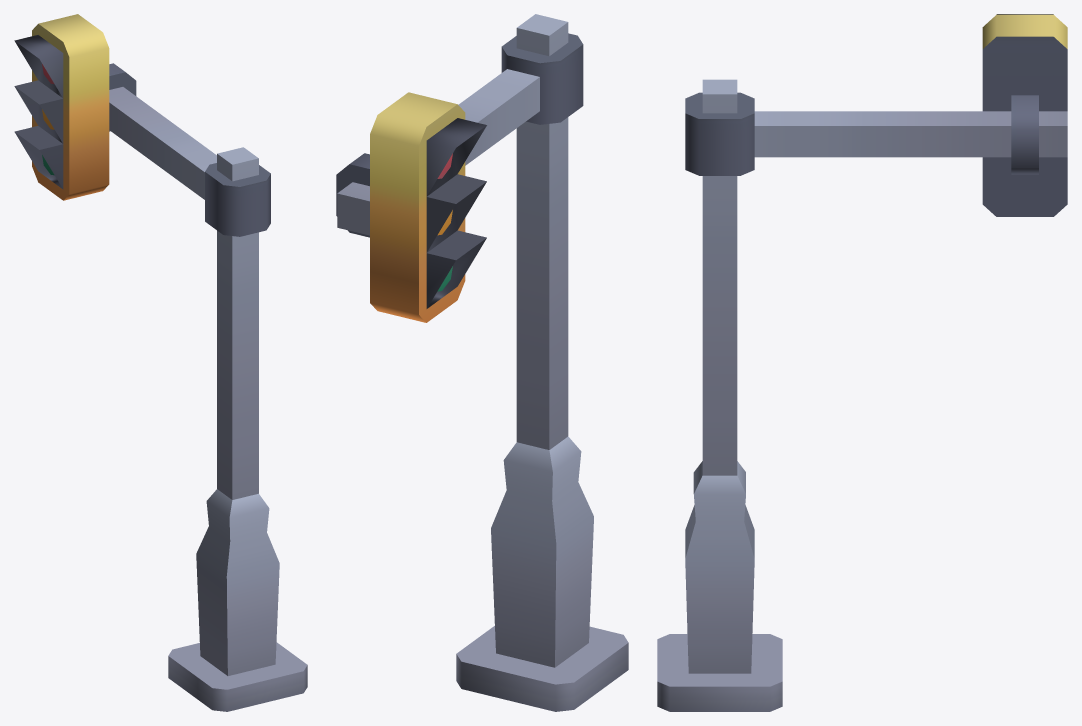
The model's file is road_traffic_light_hanging.glb.
3 views of the same model, side by side, from view 1: azimuth 30°, elevation 25°; view 2: azimuth 150°, elevation 25°; view 3: azimuth 270°, elevation 25° (orthographic). The views are drawn at different scales.
Visible parts, largest first — view 1: traffic-light-hanging; view 2: traffic-light-hanging; view 3: traffic-light-hanging.
Part boxes in pixels (x1,y1,x2,y2): traffic-light-hanging: [14, 14, 307, 711]; traffic-light-hanging: [336, 14, 628, 711]; traffic-light-hanging: [657, 14, 1067, 711].
Size of the model in its own units: 0.1176 by 0.5091 by 0.295.
1 material, 1 textured.
